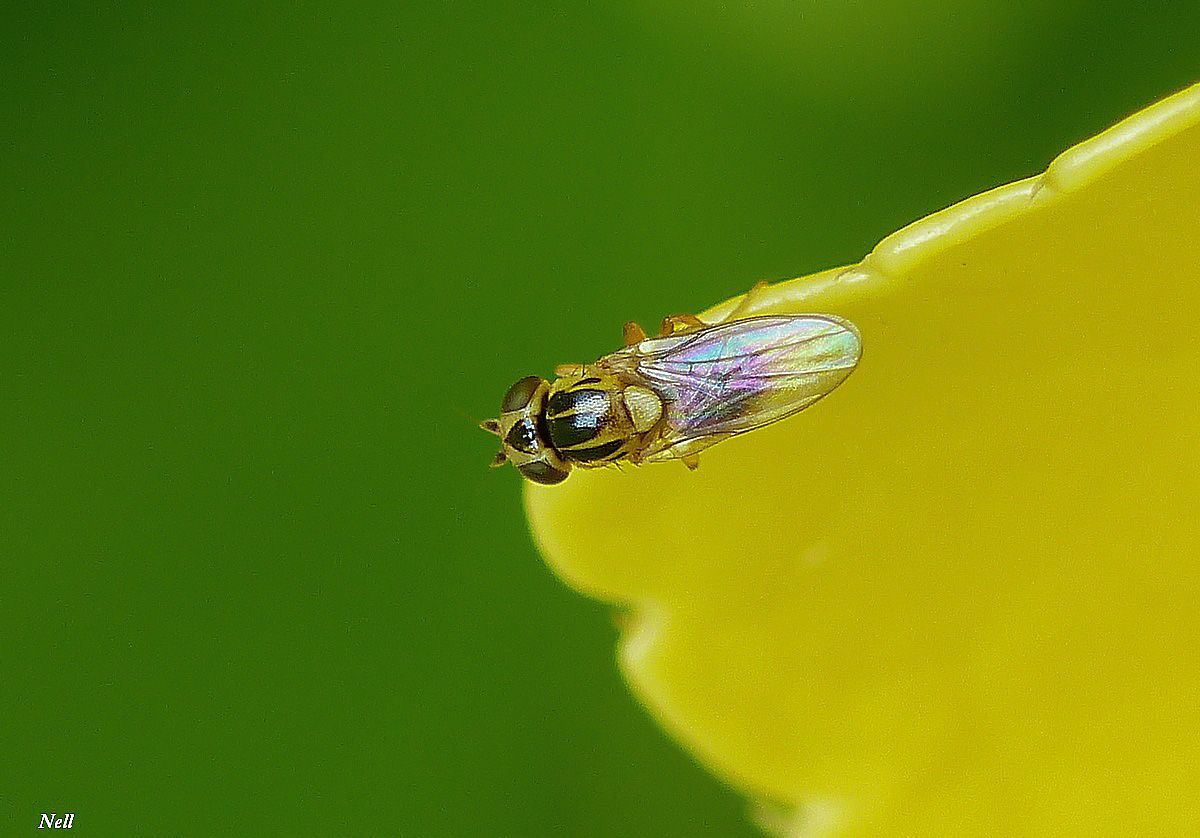Chloropidae: (479, 292, 861, 489)
